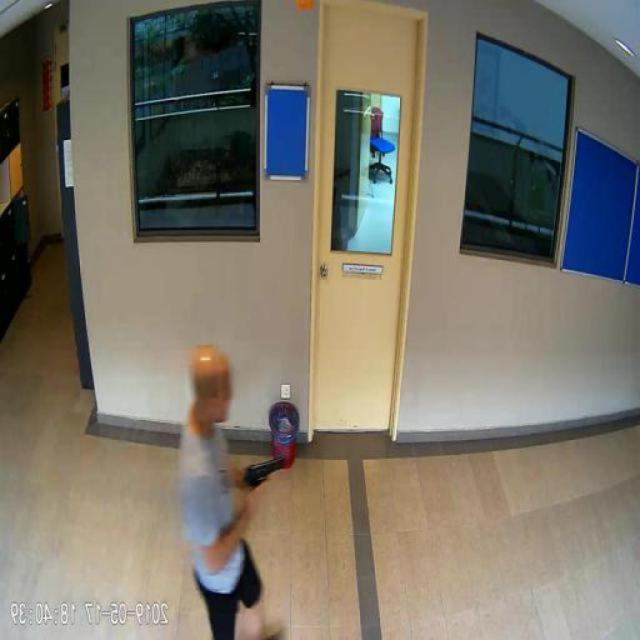pistol: (246, 455, 286, 501)
